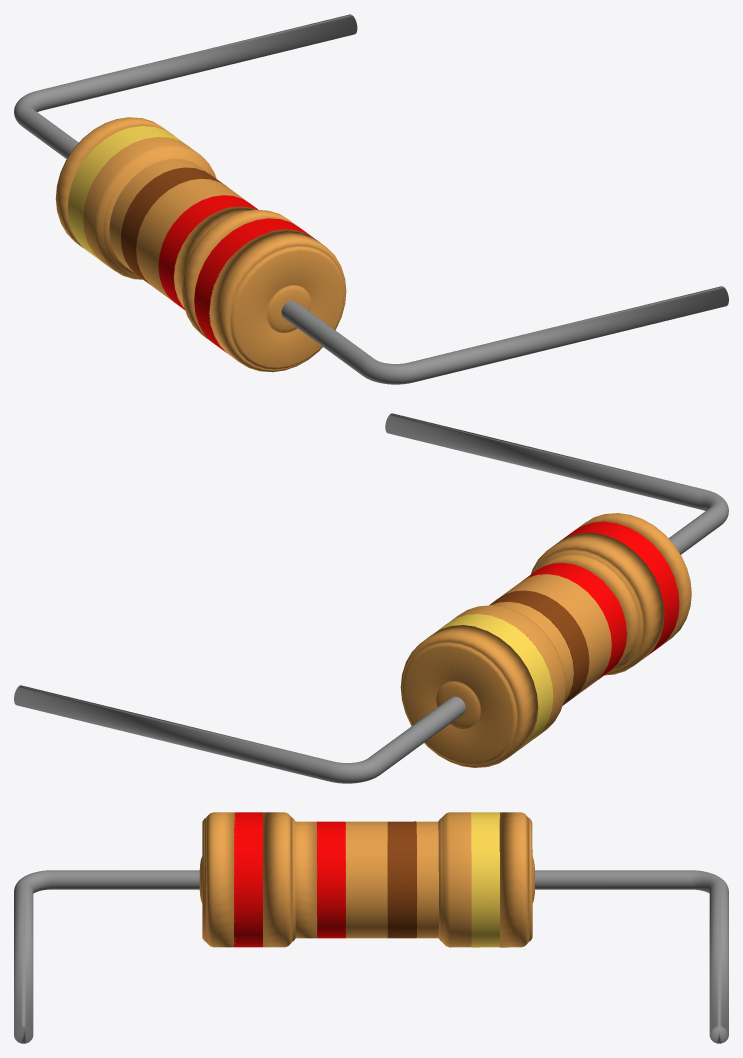
Rendered from resistencia_220_ohms.fbx.
3 views of the same model, one above another, from view 1: azimuth 30°, elevation 25°; view 2: azimuth 150°, elevation 25°; view 3: azimuth 270°, elevation 25° (orthographic). The views are drawn at different scales.
Visible parts, largest first — view 1: Cilindro10, Cilindro01, Cilindro07, Cilindro03, Cilindro05, Cilindro08, Cilindro02, Cilindro06, Cilindro04, Cilindro09; view 2: Cilindro10, Cilindro09, Cilindro03, Cilindro07, Cilindro05, Cilindro08, Cilindro02, Cilindro06, Cilindro04, Cilindro01; view 3: Cilindro10, Cilindro07, Cilindro03, Cilindro05, Cilindro09, Cilindro01, Cilindro08, Cilindro02, Cilindro06, Cilindro04.
Boxes of the visible parts, left/top/right/bottom form: Cilindro10: left=14, top=14, right=728, bottom=384; Cilindro01: left=209, top=229, right=346, bottom=372; Cilindro07: left=83, top=137, right=216, bottom=279; Cilindro03: left=173, top=206, right=299, bottom=341; Cilindro05: left=136, top=178, right=248, bottom=301; Cilindro08: left=67, top=126, right=188, bottom=259; Cilindro02: left=194, top=218, right=314, bottom=352; Cilindro06: left=121, top=167, right=226, bottom=284; Cilindro04: left=158, top=195, right=258, bottom=309; Cilindro09: left=55, top=117, right=173, bottom=248; Cilindro10: left=14, top=413, right=728, bottom=783; Cilindro09: left=400, top=625, right=538, bottom=767; Cilindro03: left=531, top=532, right=664, bottom=675; Cilindro07: left=450, top=602, right=573, bottom=737; Cilindro05: left=500, top=574, right=611, bottom=696; Cilindro08: left=435, top=614, right=553, bottom=748; Cilindro02: left=559, top=521, right=679, bottom=655; Cilindro06: left=489, top=590, right=589, bottom=705; Cilindro04: left=521, top=563, right=626, bottom=680; Cilindro01: left=575, top=513, right=691, bottom=644; Cilindro10: left=14, top=870, right=728, bottom=1043; Cilindro07: left=416, top=812, right=471, bottom=947; Cilindro03: left=263, top=812, right=317, bottom=947; Cilindro05: left=345, top=821, right=387, bottom=938; Cilindro09: left=499, top=812, right=534, bottom=947; Cilindro01: left=199, top=812, right=235, bottom=947; Cilindro08: left=471, top=812, right=499, bottom=947; Cilindro02: left=234, top=812, right=262, bottom=947; Cilindro06: left=387, top=821, right=416, bottom=938; Cilindro04: left=317, top=821, right=345, bottom=938.
Size of the model in its own units: 4498 by 1400 by 7398.
